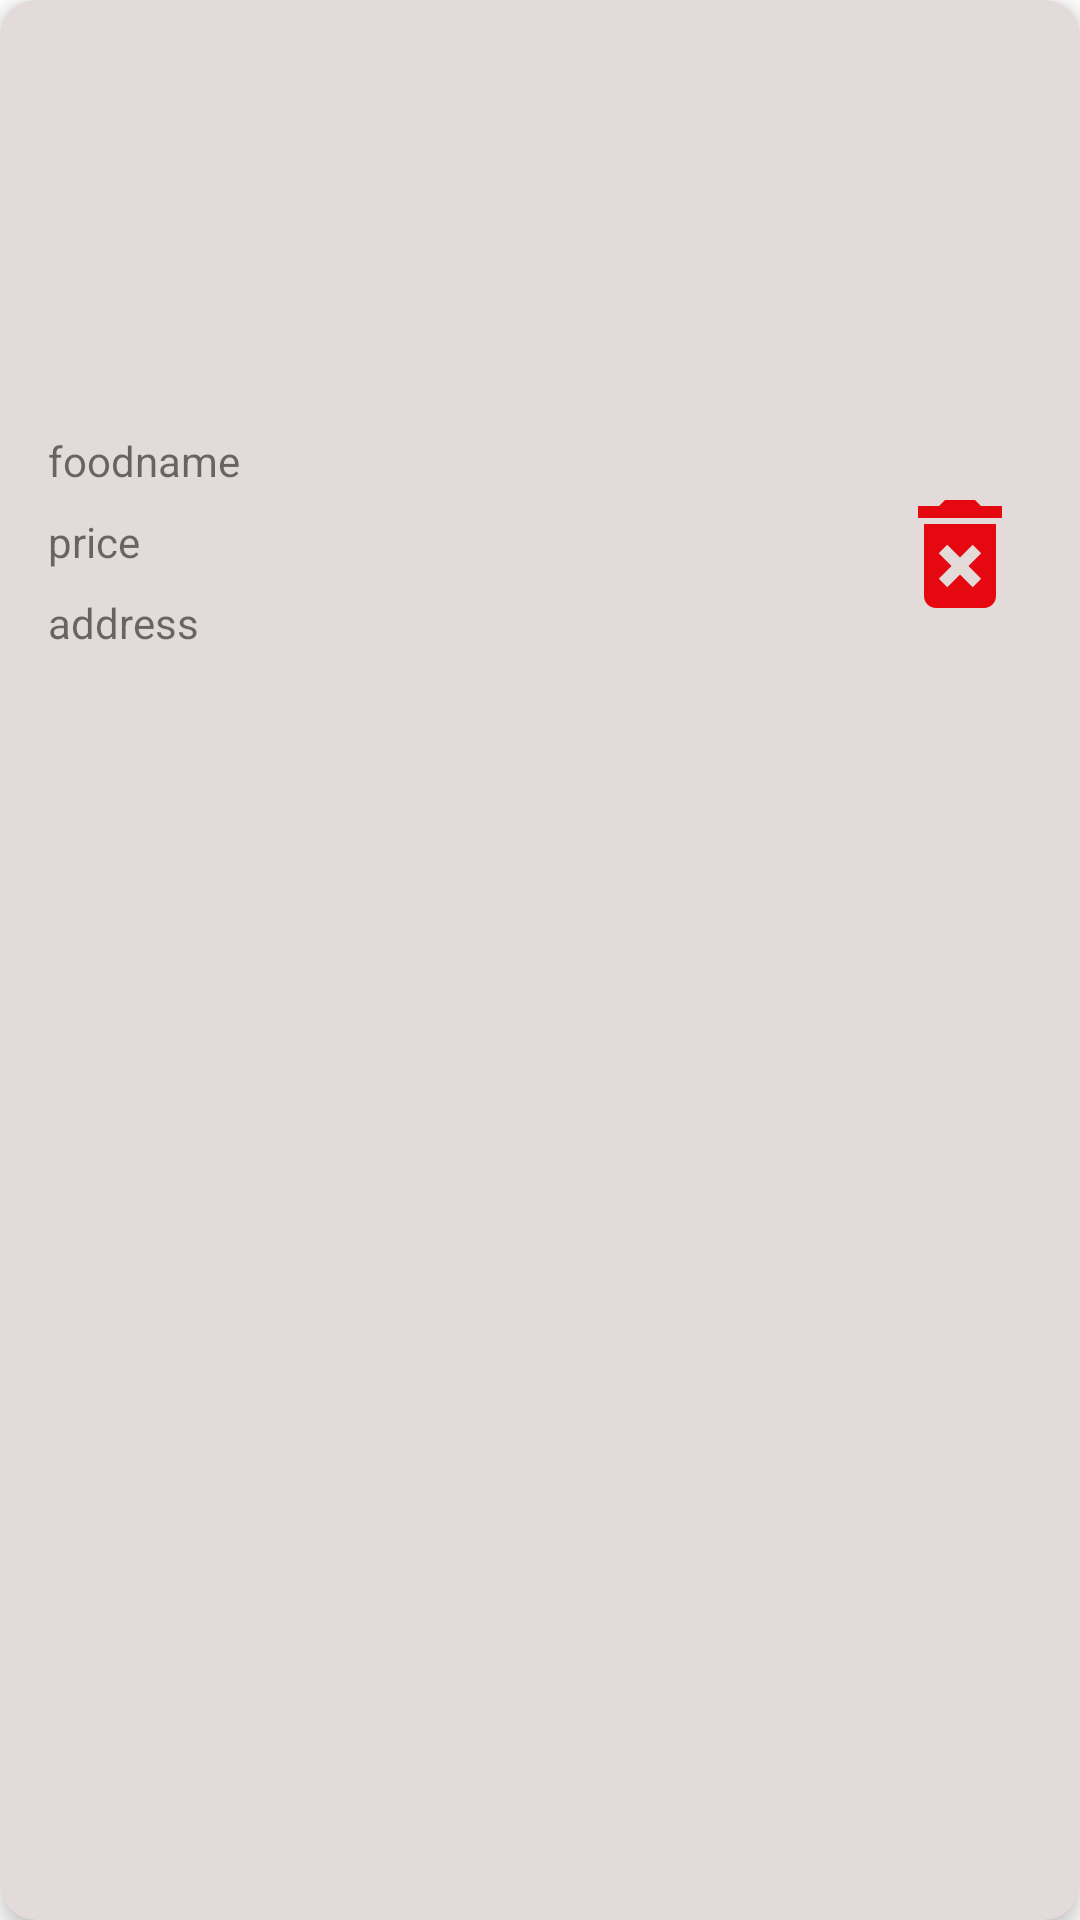

Icons on this 1080x1920 Android screen, each with the point to tap as [x,y]:
delete: [960,554]
